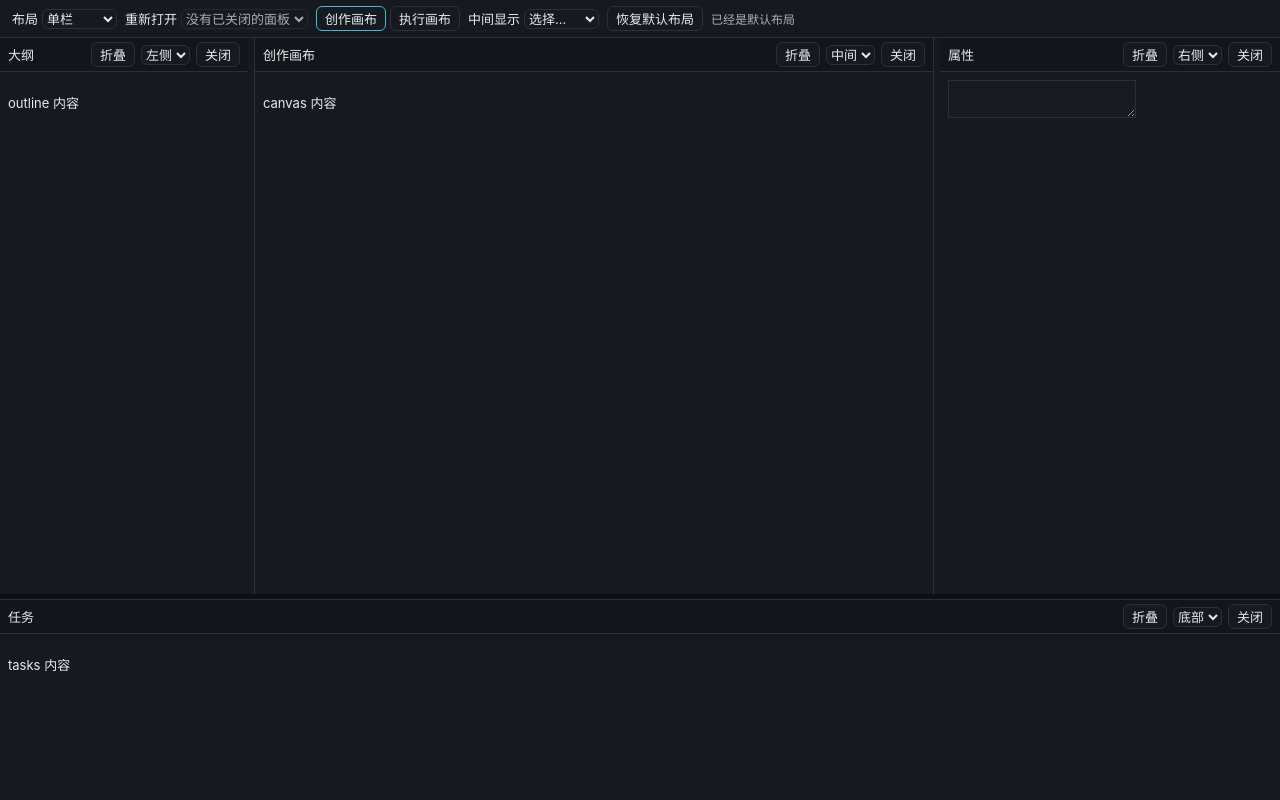
Test: M1-s2 DockLayout: toolbar + shortcuts through ActionRegistry › Ctrl+Alt+S switches split; Ctrl+Alt+C toggles focused panel; Ctrl+Alt+0 opens reset confirm
This screenshot has width=1280, height=800.
Press s
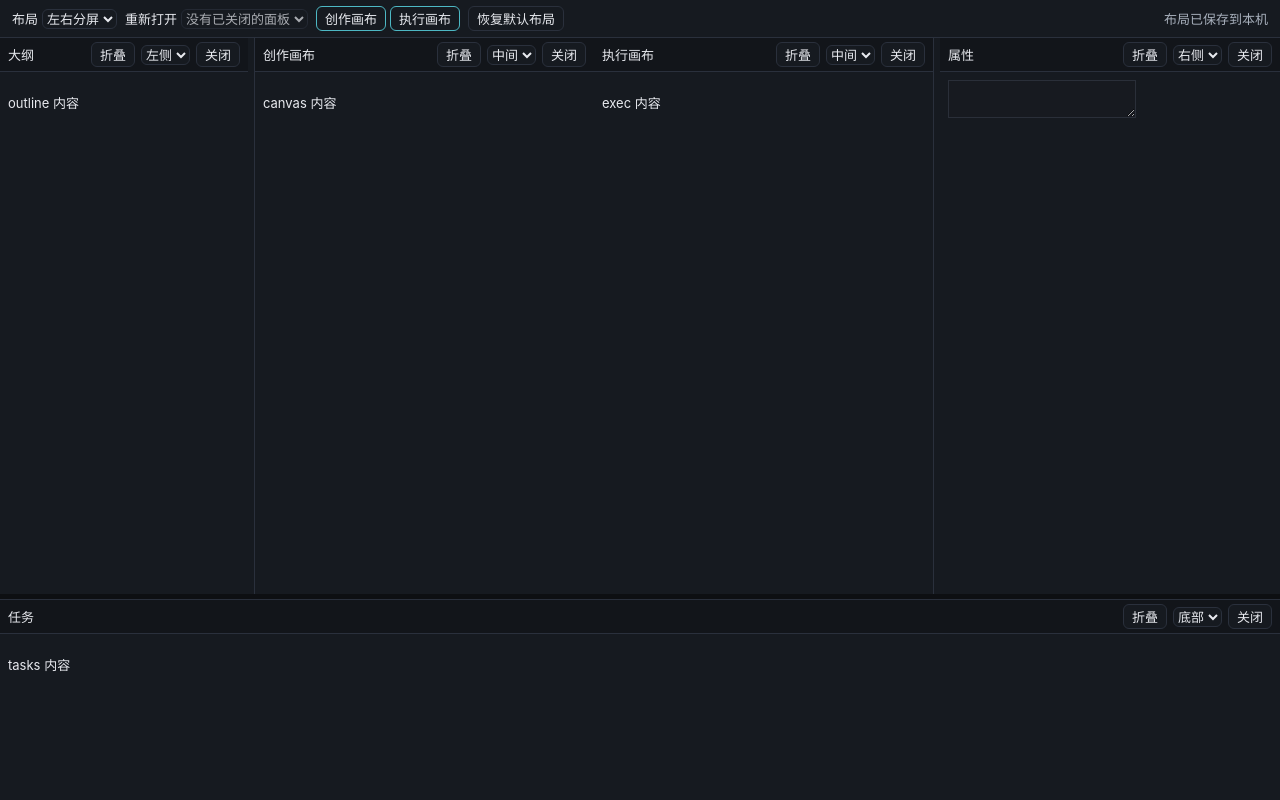
Check: the element with test id "main-zone" has attribute data-split="split-h", box [255,38,933,594]
Focus the element with test id "panel-tasks" at point(640, 700), box [0,600,1279,799]
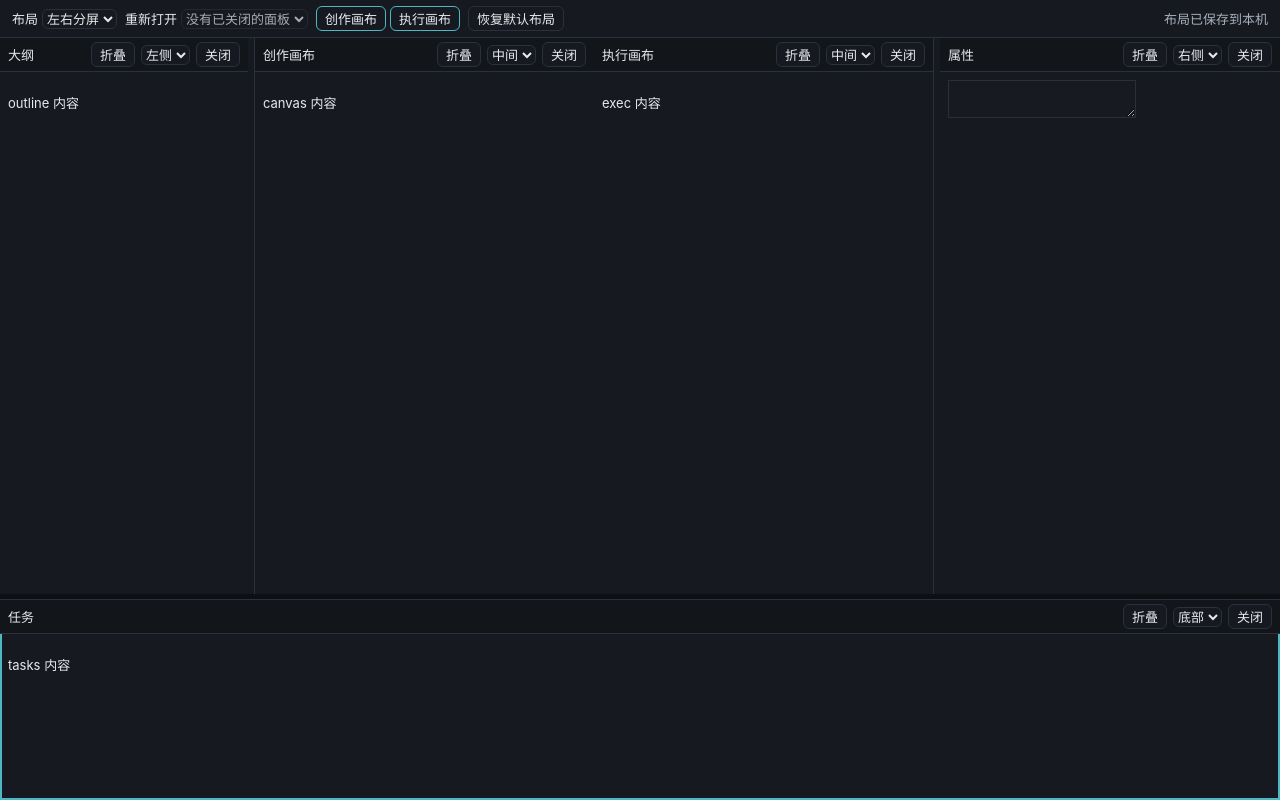
Press c
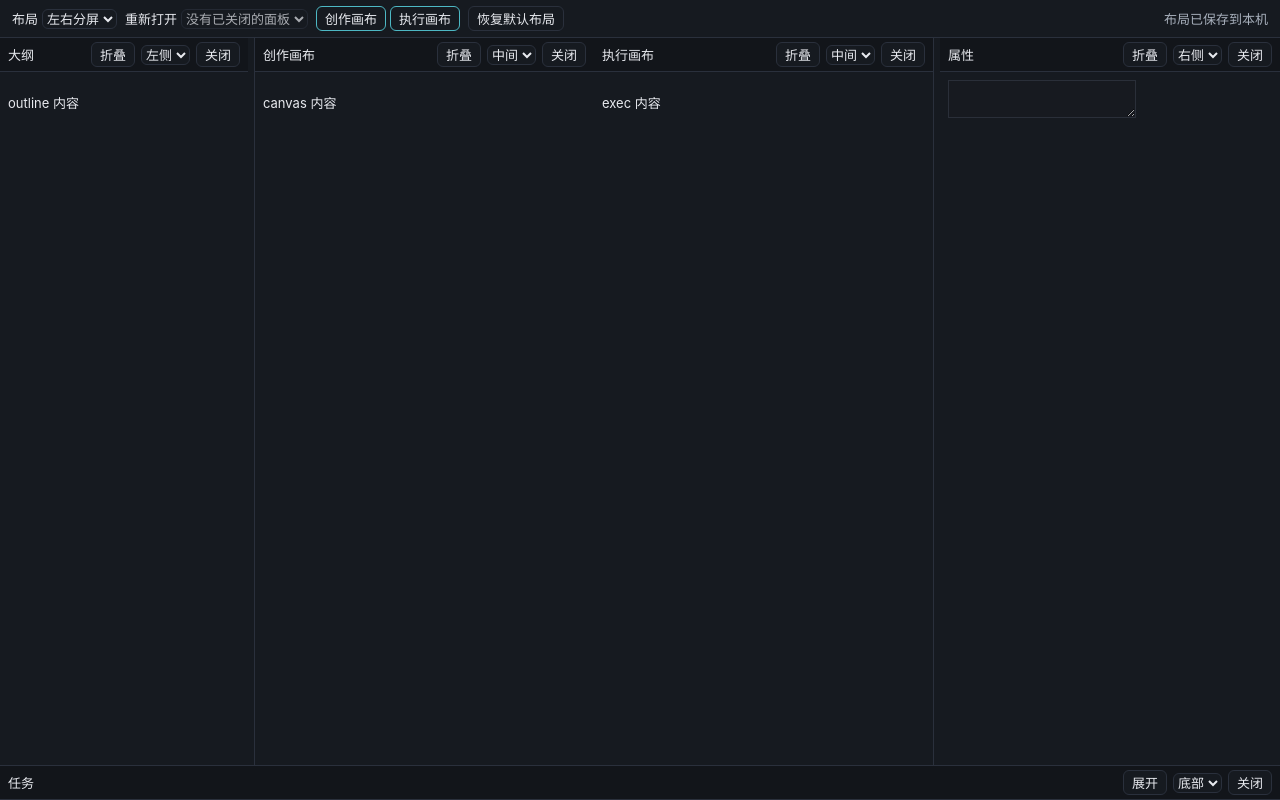
Check: the element with test id "panel-tasks" has attribute data-collapsed="true", box [0,766,1279,799]
Press 0
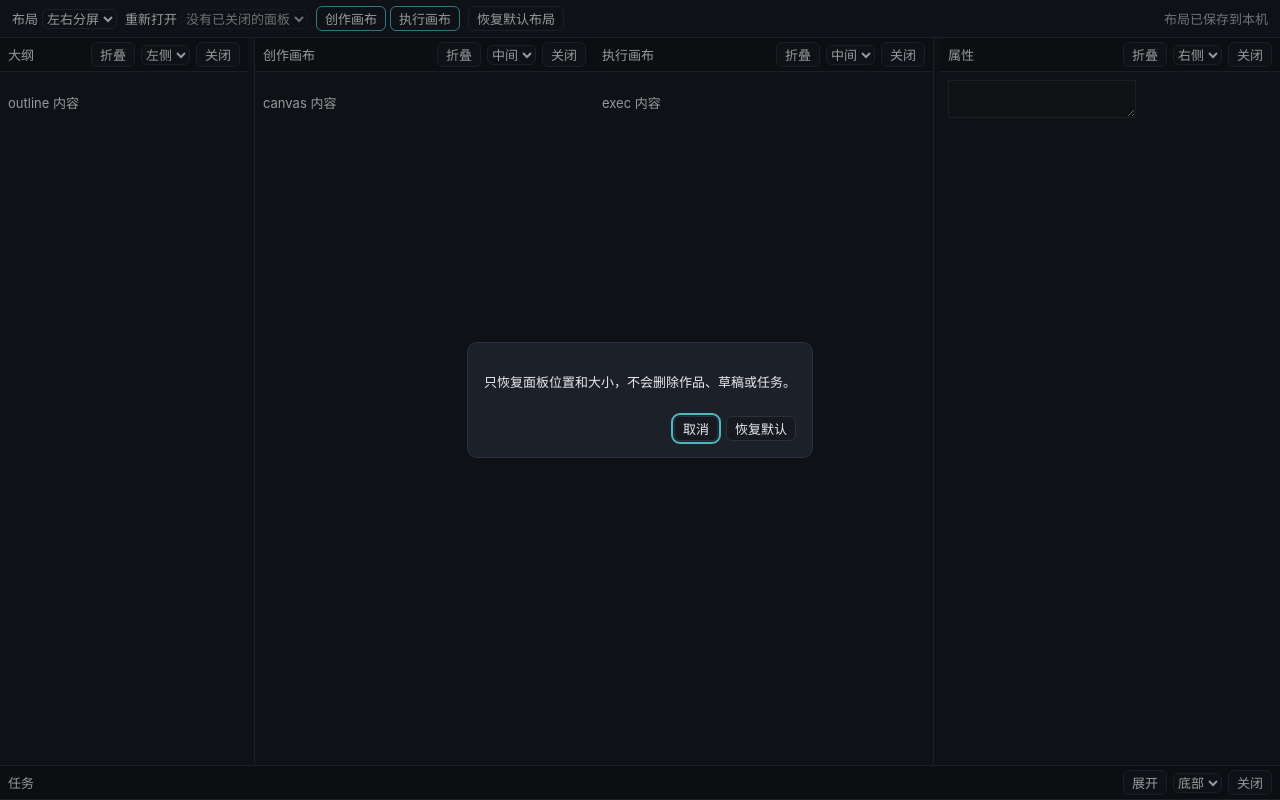
Check: the text "只恢复面板位置和大小，不会删除作品、草稿或任务。" is shown, box [484,372,796,391]
